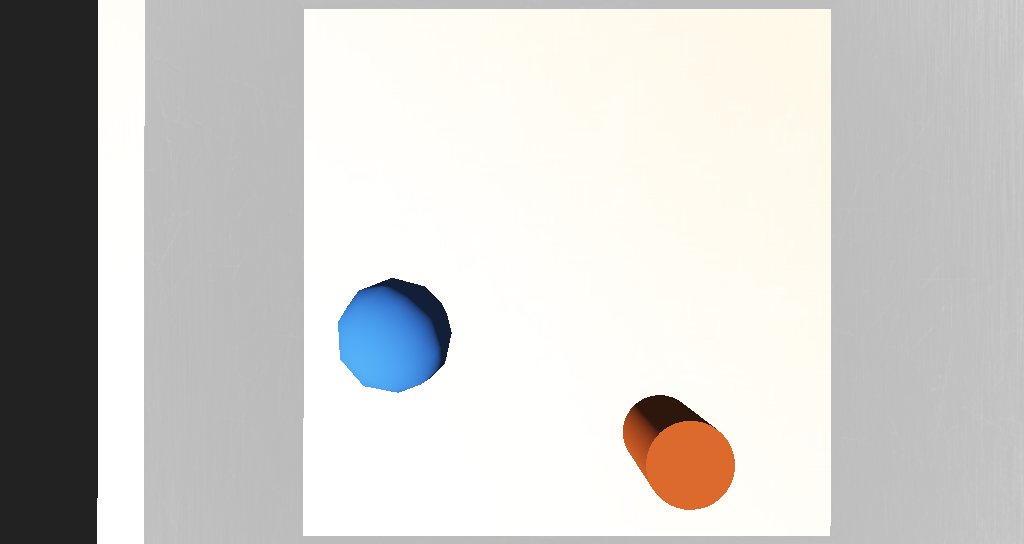cone: (542, 317, 589, 360)
cylinder: (259, 379, 374, 460)
sphere: (381, 267, 441, 315)
